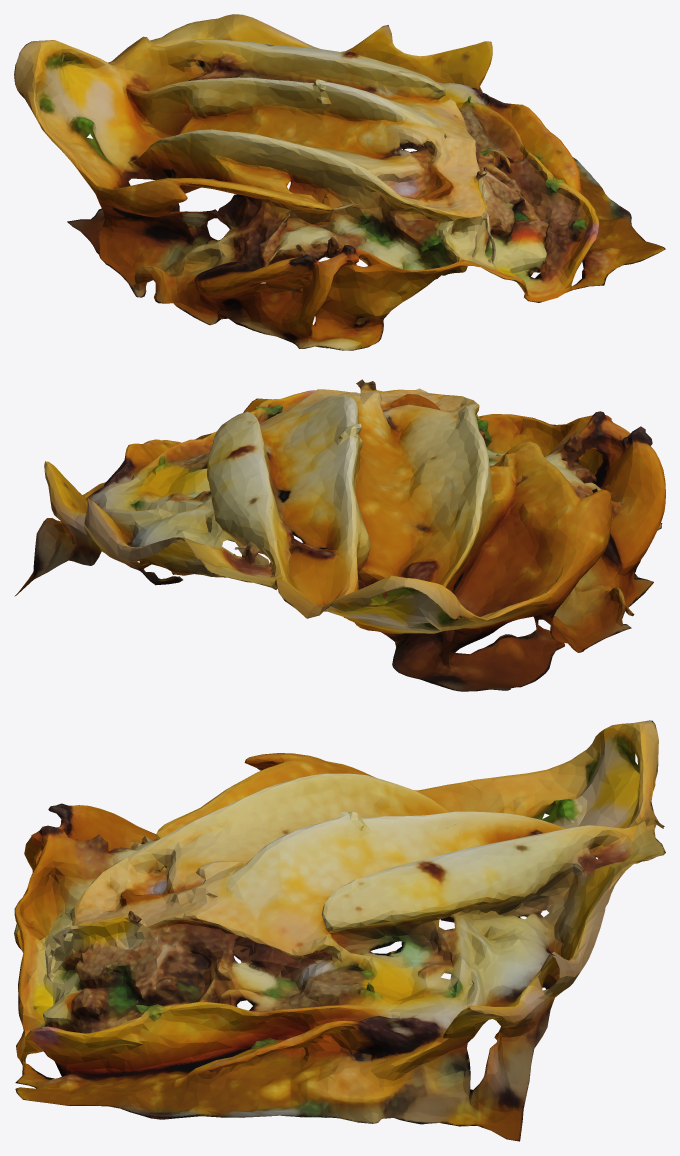
The model's file is quesabirria.glb.
3 renders of one model, top to bottom at view 1: azimuth 30°, elevation 25°; view 2: azimuth 150°, elevation 25°; view 3: azimuth 270°, elevation 25°, orthographic. The views are drawn at different scales.
Visible parts, largest first — view 1: world; view 2: world; view 3: world.
Part boxes in pixels (x1,y1,x2,y2): world: (14, 14, 665, 350); world: (14, 379, 665, 691); world: (14, 720, 665, 1141).
Size of the model in its own units: 0.9968 by 0.3246 by 0.9983.
Materials: 1 (1 with a texture image).
